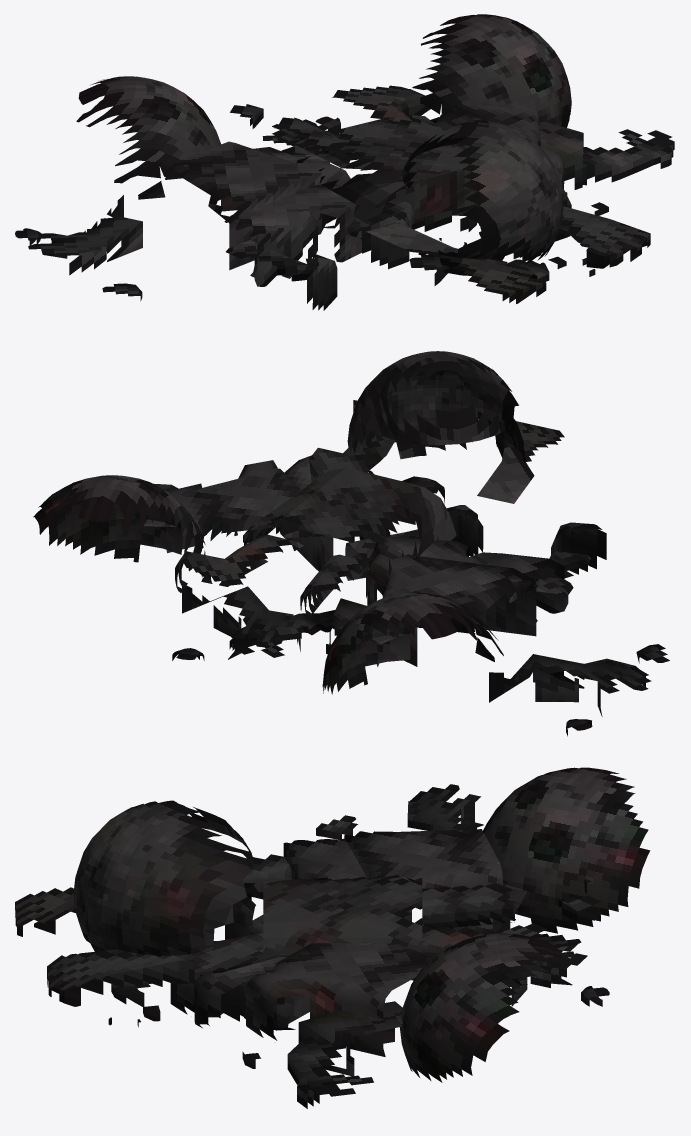
3 renders of one model, top to bottom at view 1: azimuth 30°, elevation 25°; view 2: azimuth 150°, elevation 25°; view 3: azimuth 270°, elevation 25°, orthographic. The views are drawn at different scales.
Visible parts, largest first — view 1: 25D_BG_DeadMan_BurnBody_Back, 25D_BG_DeadMan_BurnBody_Front, 25D_BG_DeadMan_BurnBody_Front_1; view 2: 25D_BG_DeadMan_BurnBody_Back, 25D_BG_DeadMan_BurnBody_Front, 25D_BG_DeadMan_BurnBody_Front_1; view 3: 25D_BG_DeadMan_BurnBody_Back, 25D_BG_DeadMan_BurnBody_Front_1, 25D_BG_DeadMan_BurnBody_Front.
Part boxes in pixels (left/top/right/bottom): 25D_BG_DeadMan_BurnBody_Back: left=230, top=85, right=650, bottom=303; 25D_BG_DeadMan_BurnBody_Front: left=15, top=76, right=466, bottom=310; 25D_BG_DeadMan_BurnBody_Front_1: left=272, top=14, right=674, bottom=281; 25D_BG_DeadMan_BurnBody_Back: left=175, top=351, right=564, bottom=657; 25D_BG_DeadMan_BurnBody_Front: left=229, top=522, right=669, bottom=736; 25D_BG_DeadMan_BurnBody_Front_1: left=33, top=455, right=483, bottom=660; 25D_BG_DeadMan_BurnBody_Back: left=15, top=800, right=601, bottom=1006; 25D_BG_DeadMan_BurnBody_Front_1: left=108, top=883, right=609, bottom=1108; 25D_BG_DeadMan_BurnBody_Front: left=242, top=767, right=650, bottom=987.
Size of the model in its own units: 1.22 by 0.3163 by 1.06.
1 material, 1 textured.
